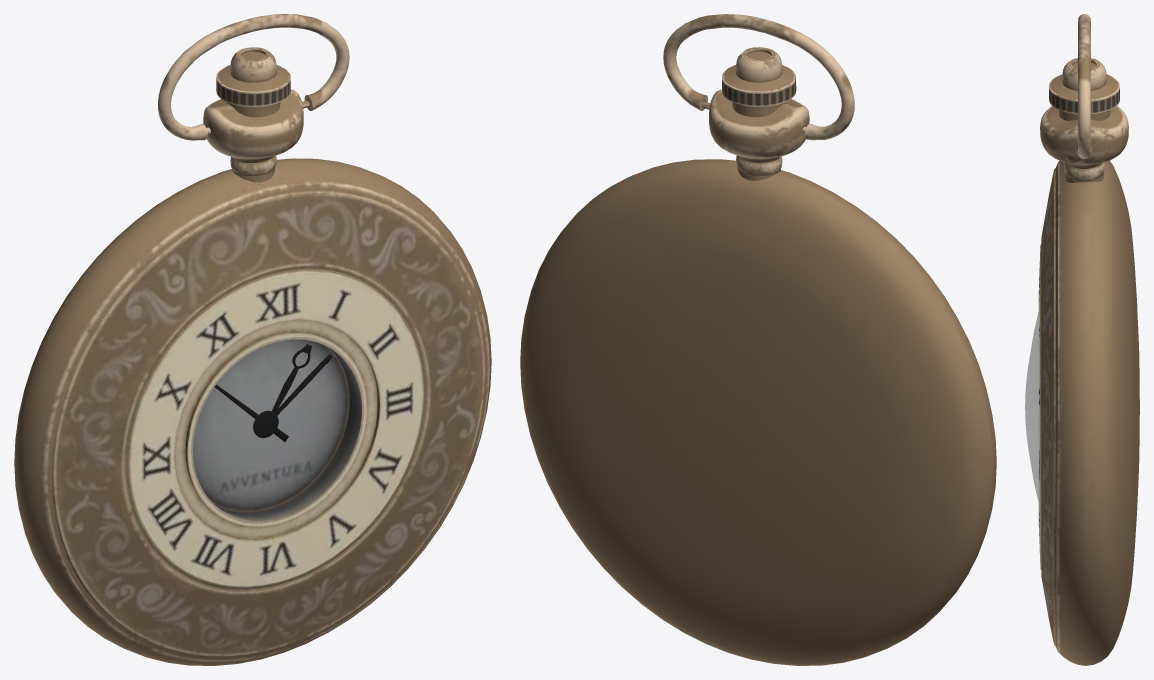
The model's file is vintage_pocket_watch.492c994e.glb.
3 views of the same model, side by side, from view 1: azimuth 30°, elevation 25°; view 2: azimuth 150°, elevation 25°; view 3: azimuth 270°, elevation 25° (orthographic). The views are drawn at different scales.
Parts seen in each view (by area): view 1: vintage_pocket_watch; view 2: vintage_pocket_watch; view 3: vintage_pocket_watch.
Boxes of the visible parts, x1=… form: vintage_pocket_watch: x1=14, y1=14, x2=491, y2=665; vintage_pocket_watch: x1=520, y1=14, x2=996, y2=665; vintage_pocket_watch: x1=1025, y1=14, x2=1139, y2=665.
Bounding box in the file's own units: 0.7674 × 1 × 0.17.
Materials: 3 (1 with a texture image).
